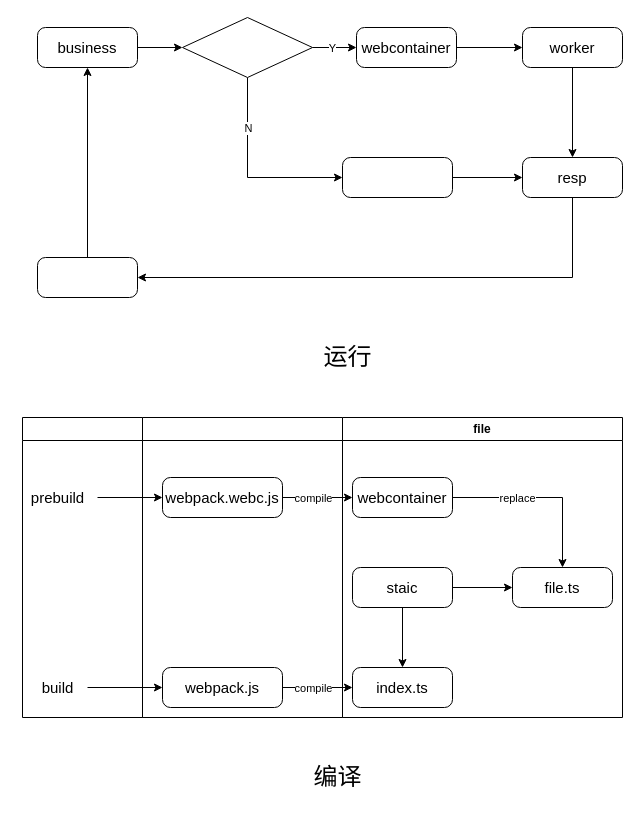
The diagram is 640 pixels wide and 815 high, and some of its shapes have lost their labels. Here are the shapes that lost their labels. From the top down, the centre of each, then its label:
At [247,47]: "hasWebcontainer?".
At [397,177]: "handlerService".
At [87,277]: "client".
At [82,567]: "script".
At [242,567]: "config".
